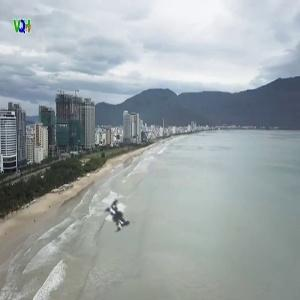drone: (81, 176, 161, 256)
